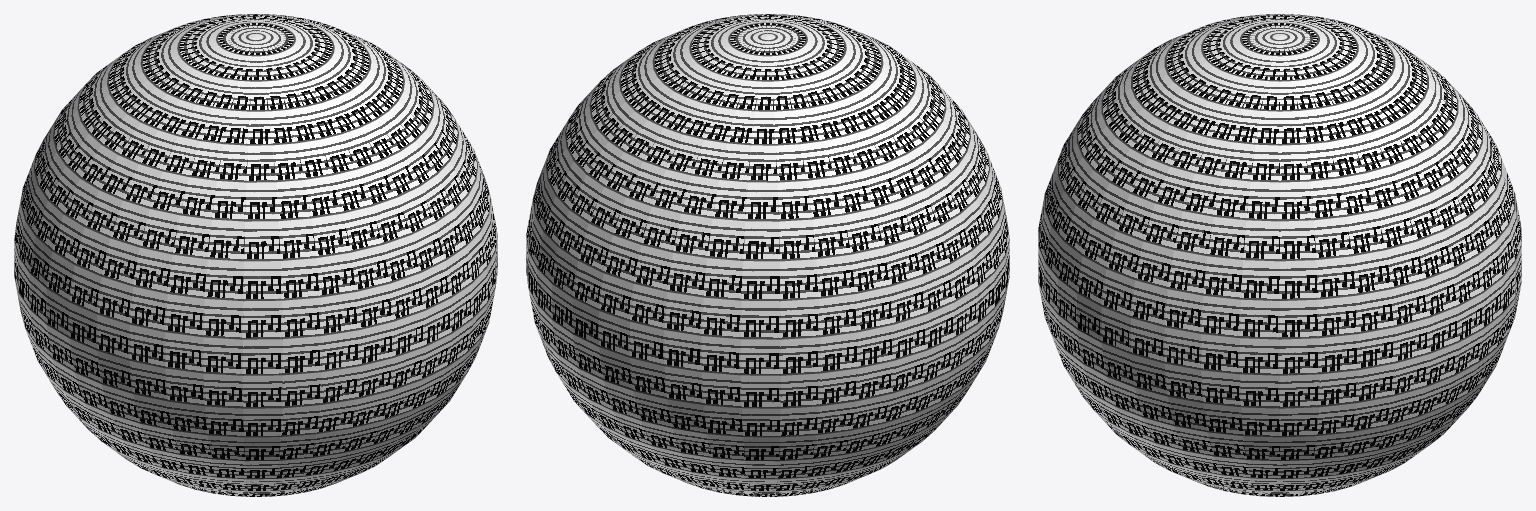
Rendered from singularity.obj.
3 renders of one model, left to right at view 1: azimuth 30°, elevation 25°; view 2: azimuth 150°, elevation 25°; view 3: azimuth 270°, elevation 25°, orthographic.
Visible parts, largest first — view 1: sphere; view 2: sphere; view 3: sphere.
Boxes of the visible parts, box(x1,y1,x2,y2) form: sphere: box(14, 14, 497, 496); sphere: box(526, 14, 1009, 496); sphere: box(1038, 14, 1521, 496).
Size of the model in its own units: 12 by 12 by 12.
